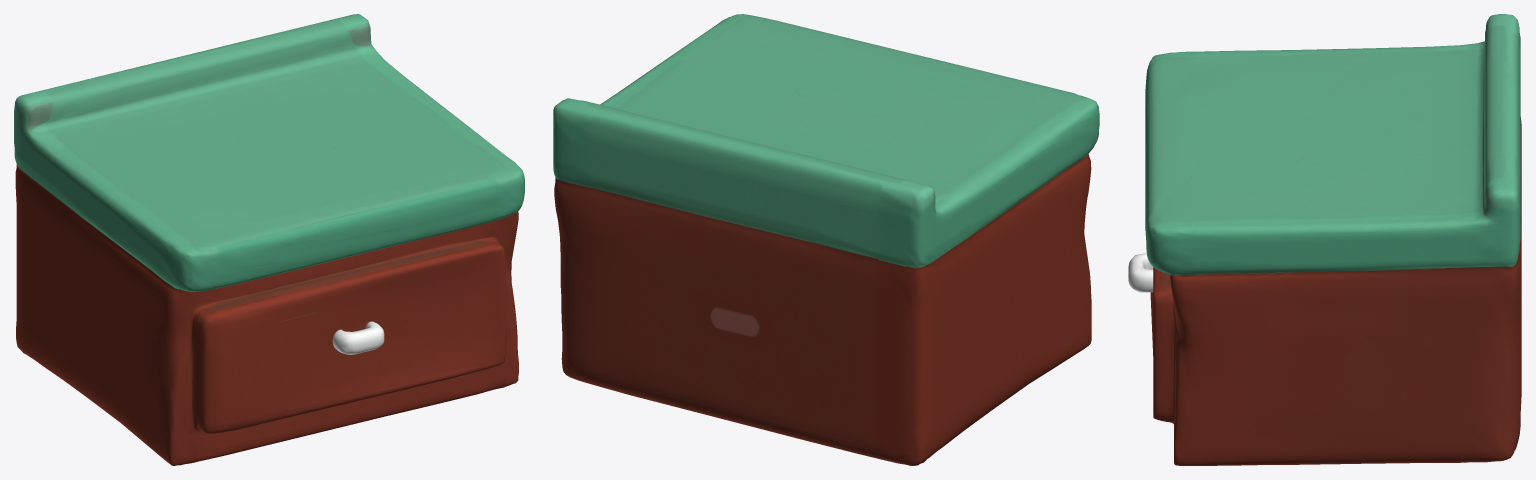
Rendered from Meshy_AI_Lego_style_nightstand_0524144344_texture.fbx.
3 views of the same model, side by side, from view 1: azimuth 30°, elevation 25°; view 2: azimuth 150°, elevation 25°; view 3: azimuth 270°, elevation 25° (orthographic). The views are drawn at different scales.
Parts seen in each view (by area): view 1: Mesh_0; view 2: Mesh_0; view 3: Mesh_0.
Boxes of the visible parts, left/top/right/bottom form: Mesh_0: left=14, top=14, right=524, bottom=465; Mesh_0: left=553, top=14, right=1099, bottom=465; Mesh_0: left=1128, top=14, right=1521, bottom=465.
Bounding box in the file's own units: 190 × 135 × 173.
1 material, 1 textured.
